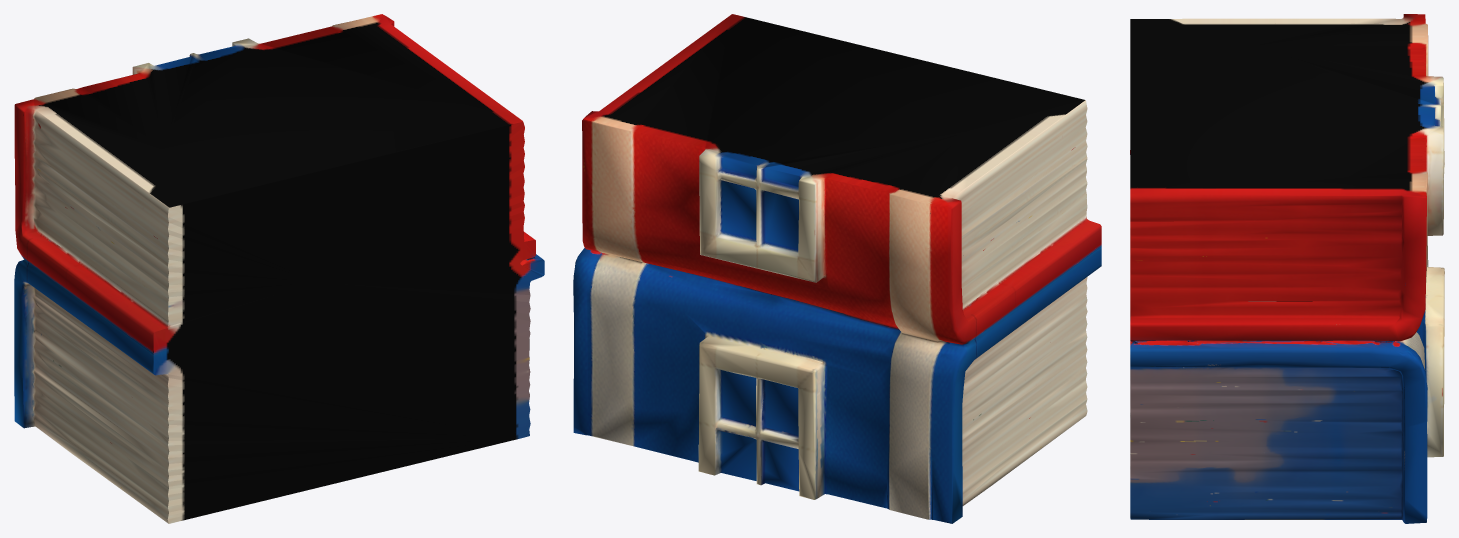
File: 7-upper-walls-back-left.fbx
The picture shows the model from 3 angles, left to right: view 1: azimuth 30°, elevation 25°; view 2: azimuth 150°, elevation 25°; view 3: azimuth 270°, elevation 25°; orthographic projection.
Parts seen in each view (by area): view 1: upper-walls-back-left; view 2: upper-walls-back-left; view 3: upper-walls-back-left.
Part boxes in pixels (x1,y1,x2,y2): upper-walls-back-left: (14,14,544,523); upper-walls-back-left: (573,14,1101,523); upper-walls-back-left: (1130,14,1444,523).
Bounding box in the file's own units: 3867 × 2984 × 2643.
Materials: 1 (1 with a texture image).
